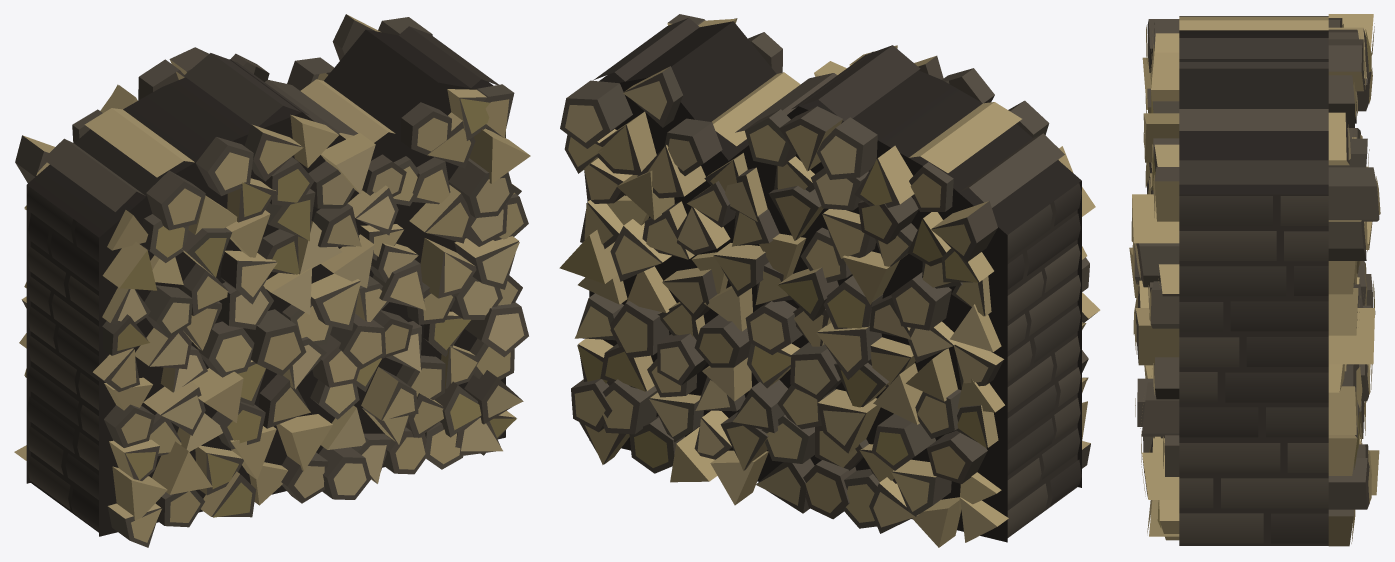
File: cordwood_b.glb
3 views of the same model, side by side, from view 1: azimuth 30°, elevation 25°; view 2: azimuth 150°, elevation 25°; view 3: azimuth 270°, elevation 25° (orthographic). The views are drawn at different scales.
Parts seen in each view (by area): view 1: Cordwood; view 2: Cordwood; view 3: Cordwood.
Part boxes in pixels (left/top/right/bottom): Cordwood: left=14, top=14, right=530, bottom=547; Cordwood: left=559, top=14, right=1100, bottom=547; Cordwood: left=1129, top=14, right=1380, bottom=546.
Bounding box in the file's own units: 2 × 1.8 × 1.
